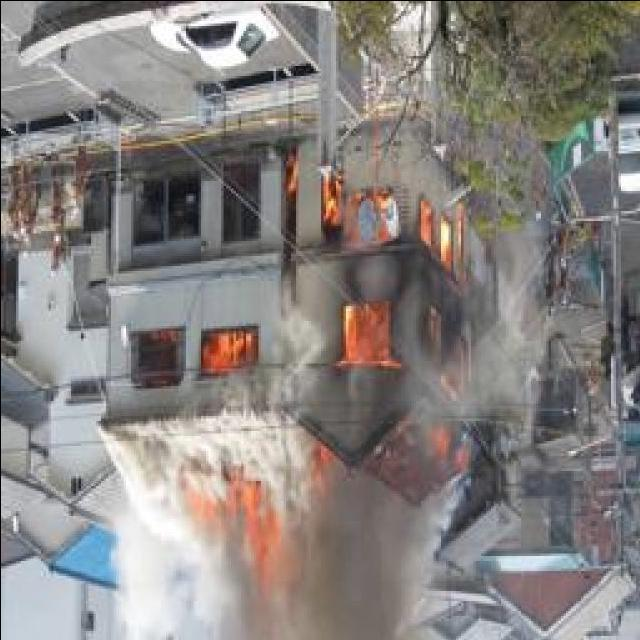Fire: (314, 166, 480, 492), (178, 476, 294, 587), (120, 323, 256, 376)
